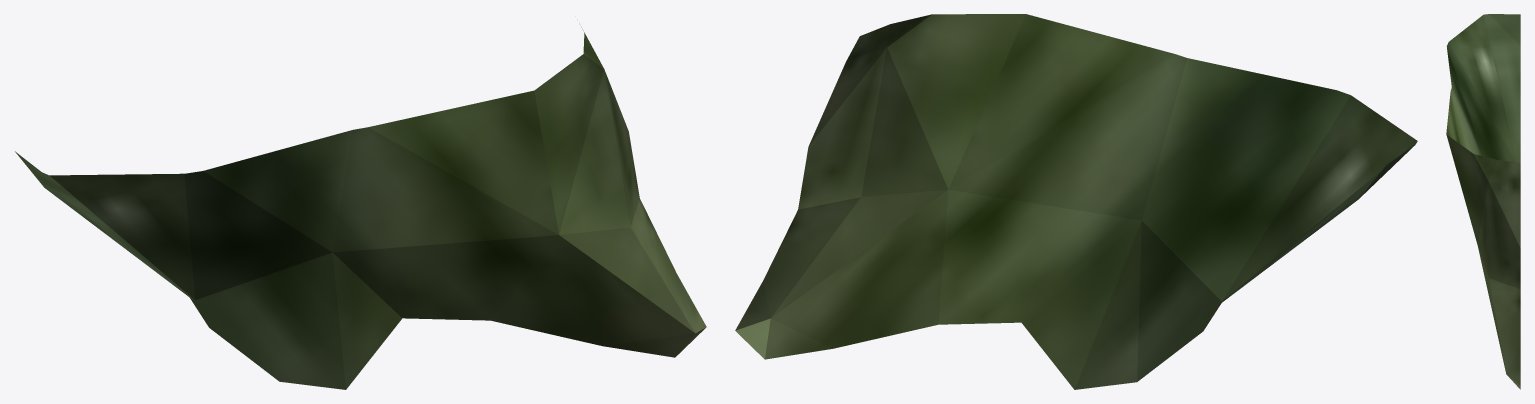
3 views of the same model, side by side, from view 1: azimuth 30°, elevation 25°; view 2: azimuth 150°, elevation 25°; view 3: azimuth 270°, elevation 25° (orthographic). The views are drawn at different scales.
Size of the model in its own units: 1.28 by 0.6514 by 0.2193.
Materials: 1 (1 with a texture image).
